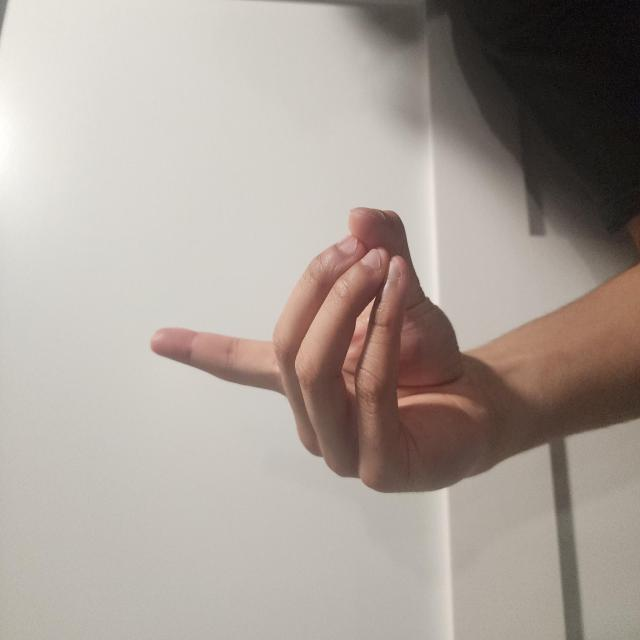D: (101, 190, 328, 640)
